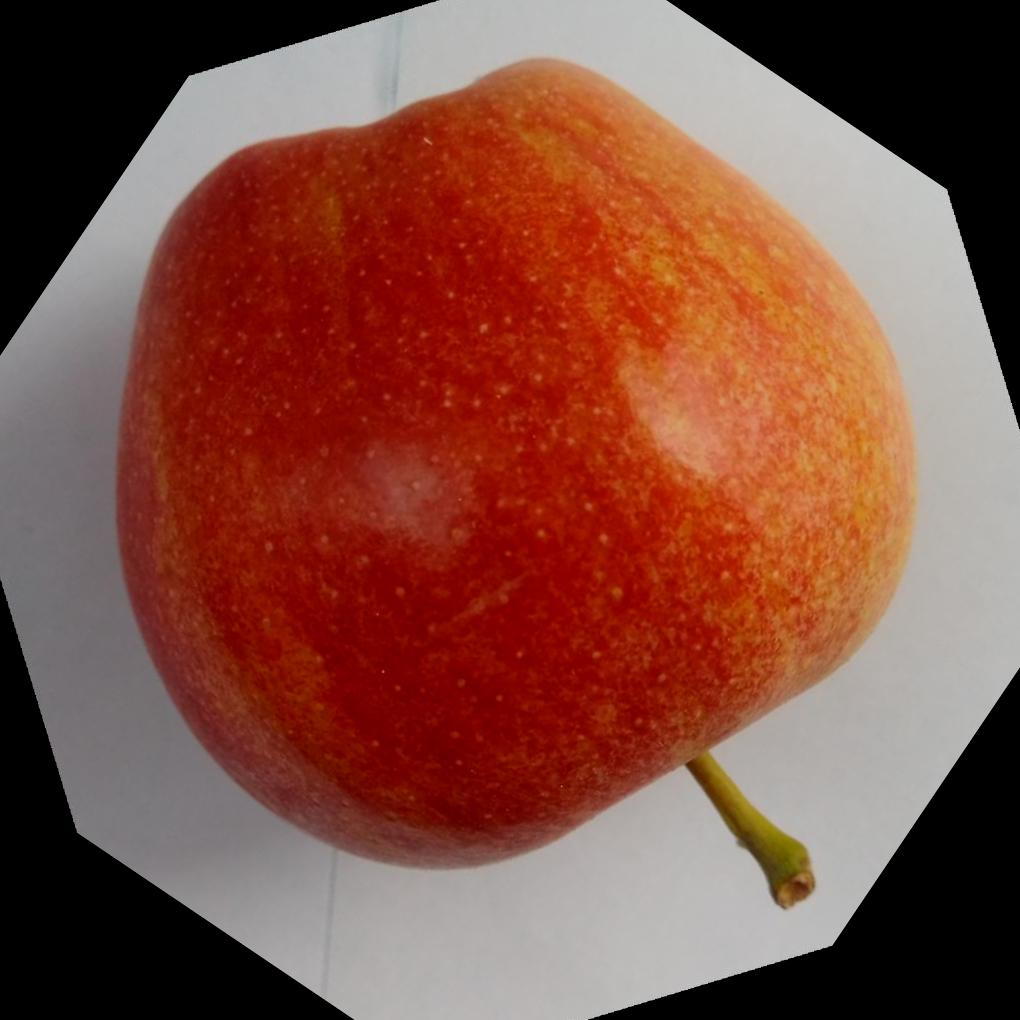FreshGuava: (110, 55, 919, 875)
